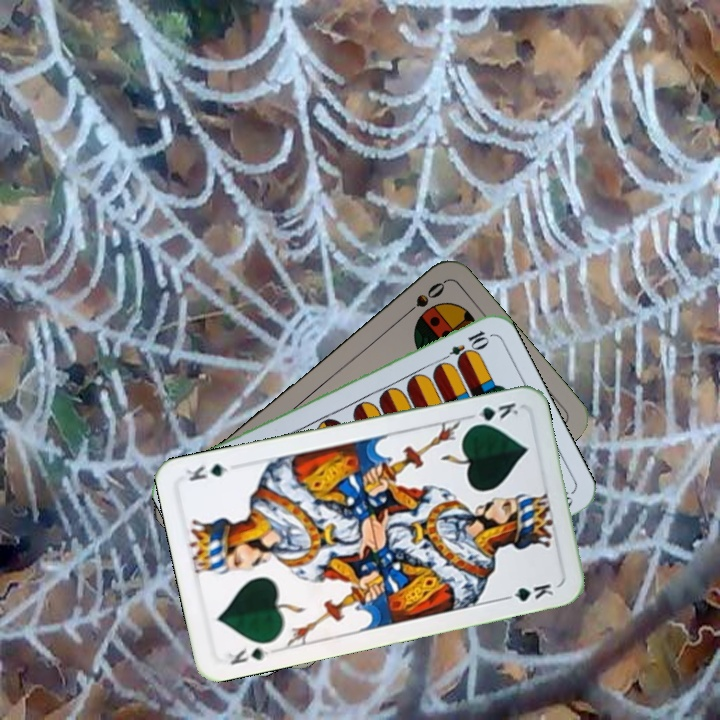E10: (436, 326, 491, 366)
GK: (463, 398, 522, 429), (220, 643, 271, 668)
SO: (398, 277, 448, 321)
